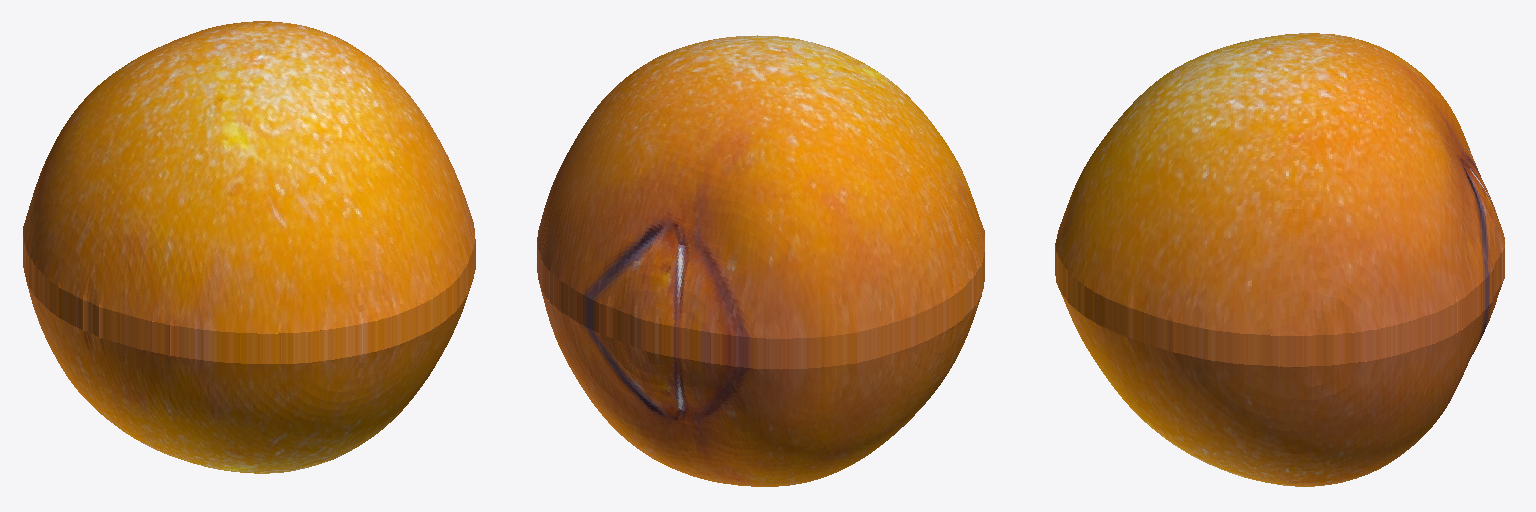
3 views of the same model, side by side, from view 1: azimuth 30°, elevation 25°; view 2: azimuth 150°, elevation 25°; view 3: azimuth 270°, elevation 25° (orthographic).
Parts seen in each view (by area): view 1: Grid; view 2: Grid; view 3: Grid.
Boxes of the visible parts, <box> form: Grid: <box>23,21,475,473</box>; Grid: <box>537,35,984,486</box>; Grid: <box>1055,33,1504,486</box>.
Size of the model in its own units: 1.61 by 1.61 by 1.6.
Materials: 1 (1 with a texture image).